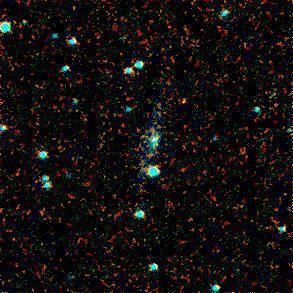star: (168, 91, 198, 121)
